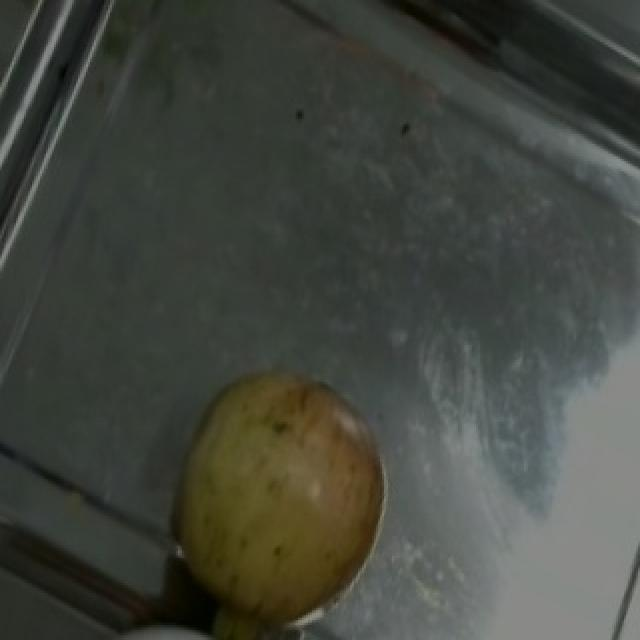fruit: (140, 335, 420, 598)
